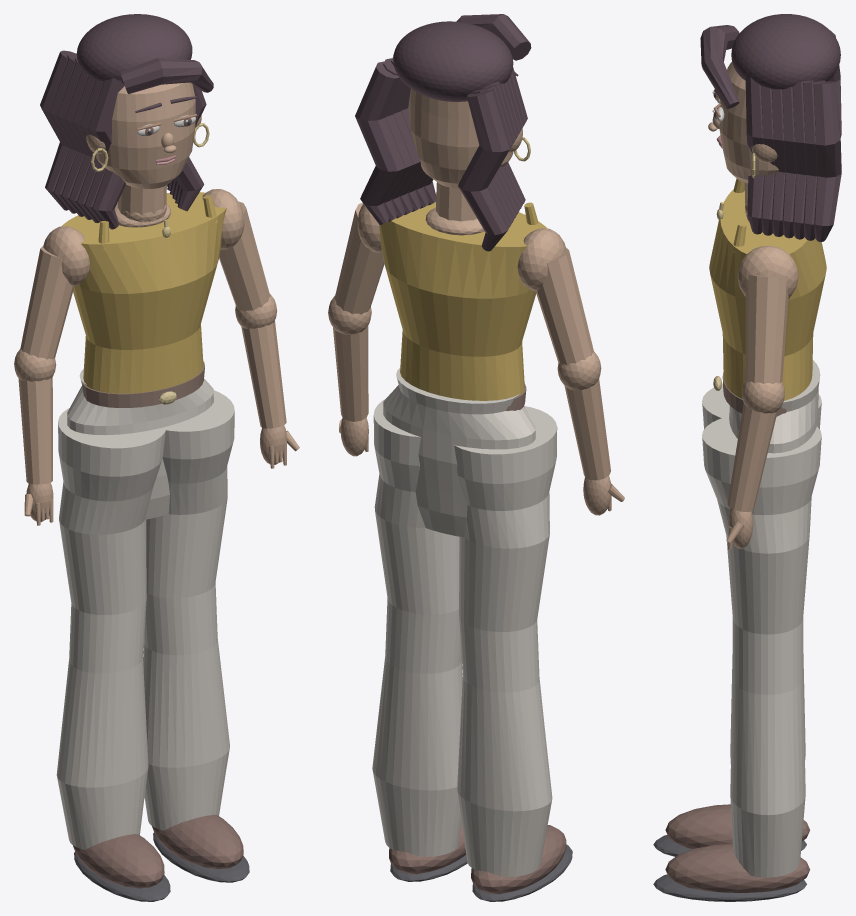
File: ava_model_v1_3.glb
The picture shows the model from 3 angles, left to right: view 1: azimuth 30°, elevation 25°; view 2: azimuth 150°, elevation 25°; view 3: azimuth 270°, elevation 25°; orthographic projection. The views are drawn at different scales.
Visible parts, largest first — view 1: L_trouser_003, R_trouser_007, torso_010, face_skin_038, hair_cap_059, pelvis_009, L_upper_arm_016, R_shoe_005, L_shoe_001, L_forearm_018, R_forearm_028, R_upper_arm_026 (+19 smaller); view 2: L_trouser_003, R_trouser_007, torso_010, pelvis_009, hair_cap_059, face_skin_038, wavy_lock_066, wavy_lock_073, L_upper_arm_016, L_forearm_018, R_upper_arm_026, R_forearm_028 (+16 smaller); view 3: R_trouser_007, torso_010, hair_cap_059, R_upper_arm_026, R_shoe_005, wavy_lock_073, R_forearm_028, pelvis_009, face_skin_038, L_shoe_001, swept_fringe_074, wavy_lock_067 (+11 smaller).
Part boxes in pixels (x1=…): L_trouser_003: x1=56, y1=408, x2=166, y2=849; R_trouser_007: x1=143, y1=390, x2=234, y2=830; torso_010: x1=61, y1=192, x2=226, y2=393; face_skin_038: x1=95, y1=82, x2=195, y2=188; hair_cap_059: x1=76, y1=14, x2=192, y2=83; pelvis_009: x1=67, y1=368, x2=213, y2=519; L_upper_arm_016: x1=20, y1=246, x2=74, y2=359; R_shoe_005: x1=152, y1=814, x2=243, y2=868; L_shoe_001: x1=73, y1=834, x2=164, y2=888; L_forearm_018: x1=18, y1=377, x2=52, y2=484; R_forearm_028: x1=241, y1=321, x2=286, y2=428; R_upper_arm_026: x1=219, y1=201, x2=270, y2=311; L_trouser_003: x1=454, y1=406, x2=557, y2=876; R_trouser_007: x1=372, y1=399, x2=462, y2=856; torso_010: x1=379, y1=194, x2=547, y2=400; pelvis_009: x1=383, y1=368, x2=535, y2=537; hair_cap_059: x1=393, y1=21, x2=513, y2=101; face_skin_038: x1=408, y1=89, x2=513, y2=188; wavy_lock_066: x1=458, y1=88, x2=511, y2=251; wavy_lock_073: x1=355, y1=61, x2=405, y2=224; L_upper_arm_016: x1=535, y1=247, x2=593, y2=365; L_forearm_018: x1=564, y1=378, x2=610, y2=480; R_upper_arm_026: x1=334, y1=202, x2=384, y2=314; R_forearm_028: x1=333, y1=325, x2=368, y2=421; R_trouser_007: x1=702, y1=418, x2=821, y2=877; torso_010: x1=709, y1=189, x2=826, y2=400; hair_cap_059: x1=731, y1=14, x2=840, y2=89; R_upper_arm_026: x1=745, y1=274, x2=788, y2=383; R_shoe_005: x1=665, y1=843, x2=810, y2=892; wavy_lock_073: x1=813, y1=81, x2=841, y2=241; R_forearm_028: x1=727, y1=403, x2=777, y2=511; pelvis_009: x1=729, y1=360, x2=820, y2=453; face_skin_038: x1=719, y1=62, x2=778, y2=183; L_shoe_001: x1=665, y1=804, x2=809, y2=848; swept_fringe_074: x1=700, y1=25, x2=739, y2=108; wavy_lock_067: x1=745, y1=77, x2=763, y2=234.
Size of the model in its own units: 0.5965 by 1.72 by 0.3454.
